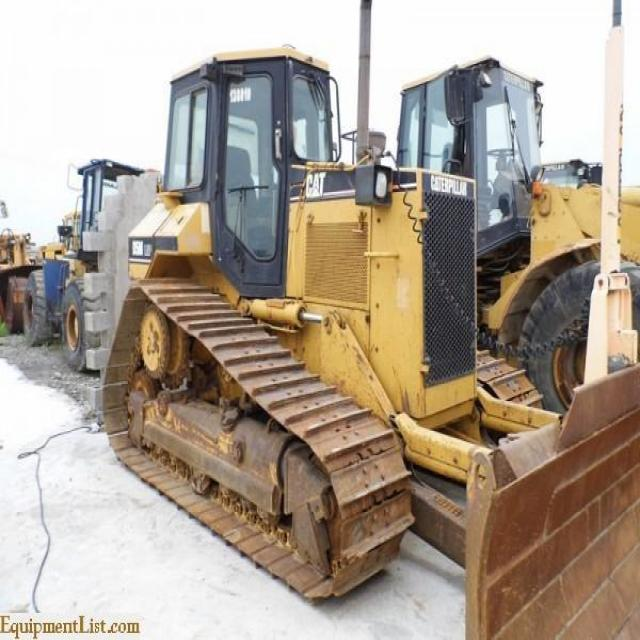Bulldozer: (94, 27, 639, 639)
